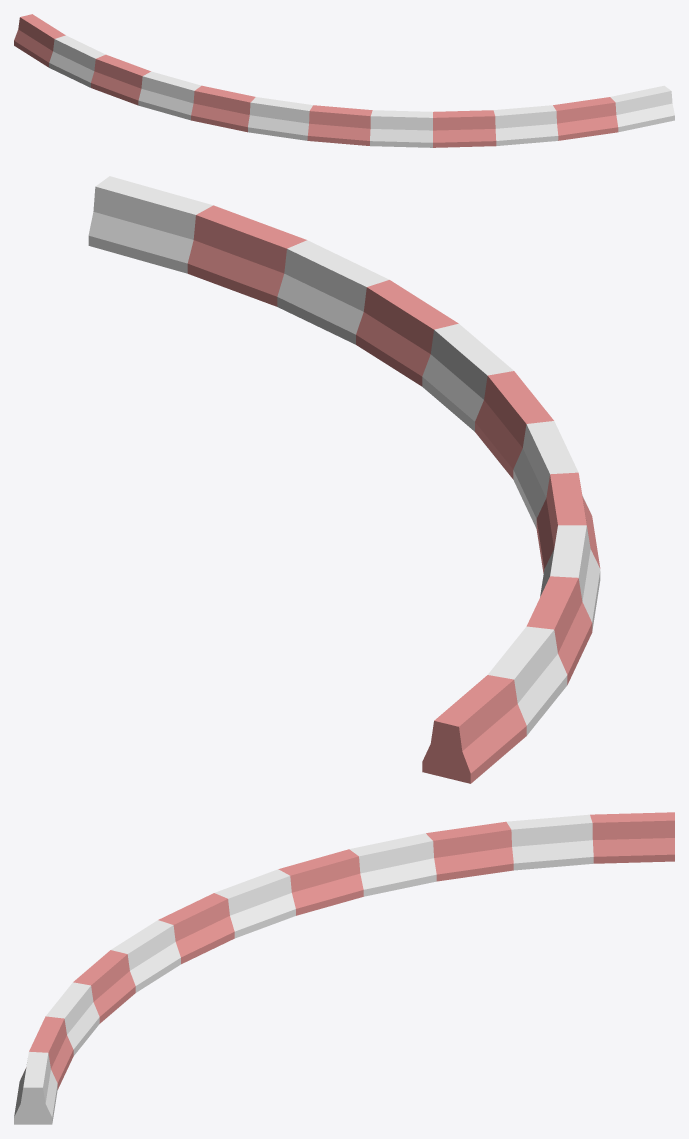
Rendered from roadCornerLargeBorderBarrier.dae.
The picture shows the model from 3 angles, top to bottom: view 1: azimuth 30°, elevation 25°; view 2: azimuth 150°, elevation 25°; view 3: azimuth 270°, elevation 25°; orthographic projection. The views are drawn at different scales.
Parts seen in each view (by area): view 1: roadCornerLargeBorder; view 2: roadCornerLargeBorder; view 3: roadCornerLargeBorder.
Boxes of the visible parts, x1,y1,x2,y2 form: roadCornerLargeBorder: [14, 14, 674, 147]; roadCornerLargeBorder: [88, 176, 600, 783]; roadCornerLargeBorder: [14, 812, 674, 1124].
Size of the model in its own units: 2.12 by 2.12 by 0.1312.
